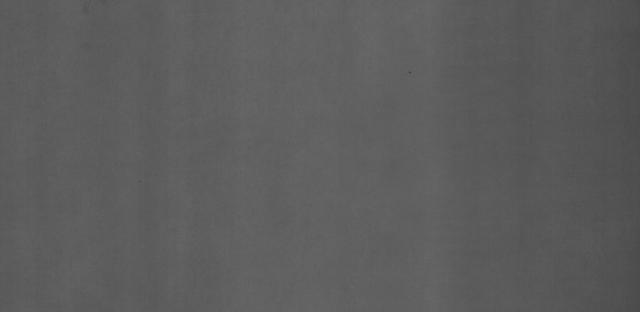inclusion: (401, 63, 421, 86)
